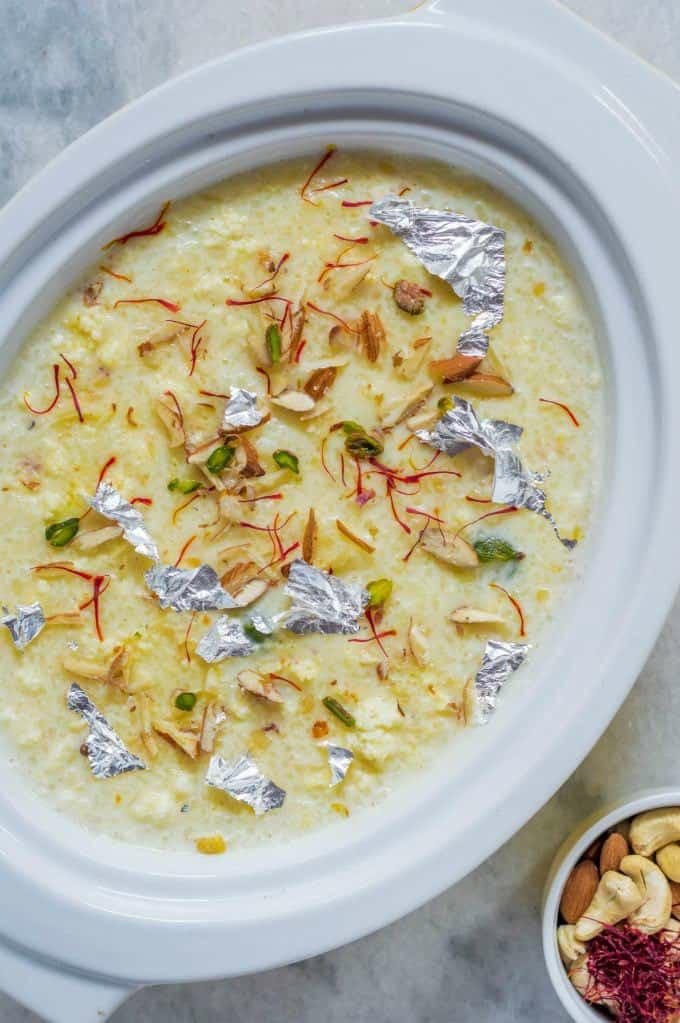Kheer: (0, 143, 603, 854)
